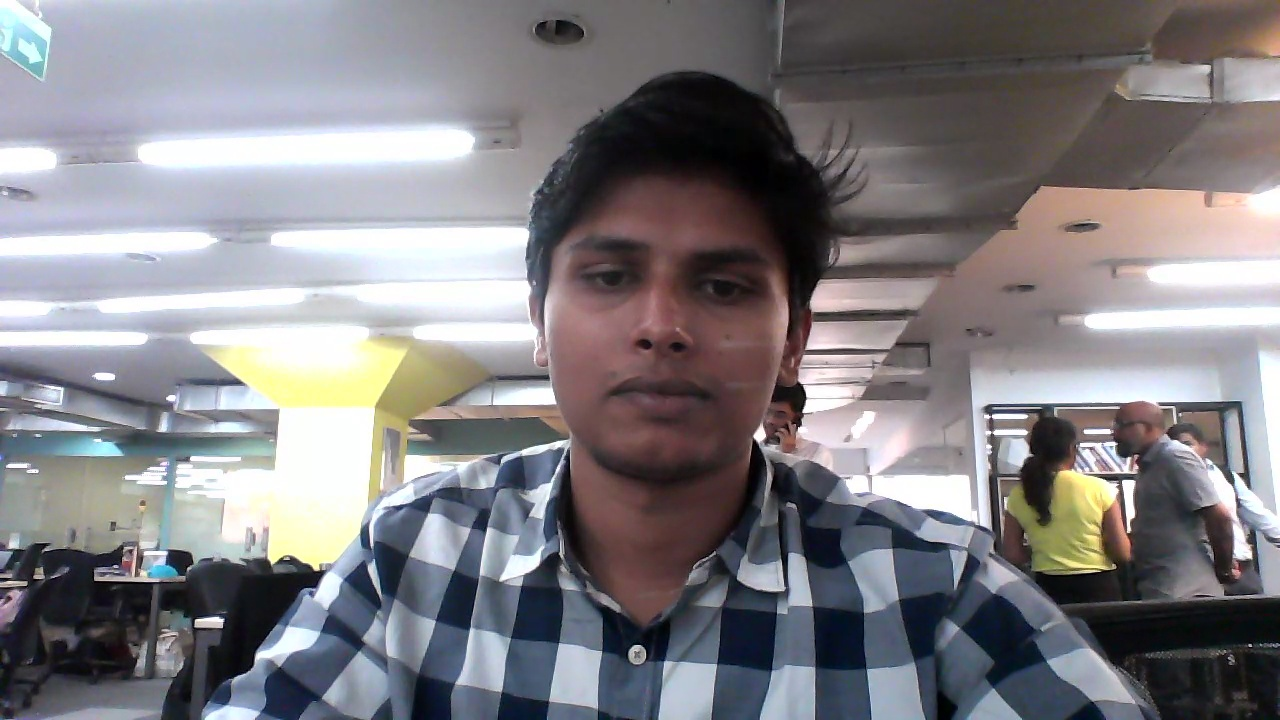open: (519, 68, 832, 494)
